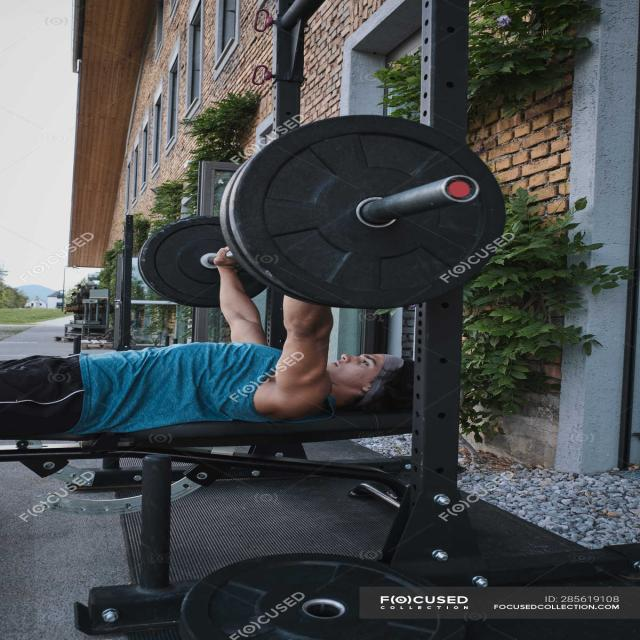barbell_plate_side: (414, 113, 507, 311), (137, 113, 229, 311)
